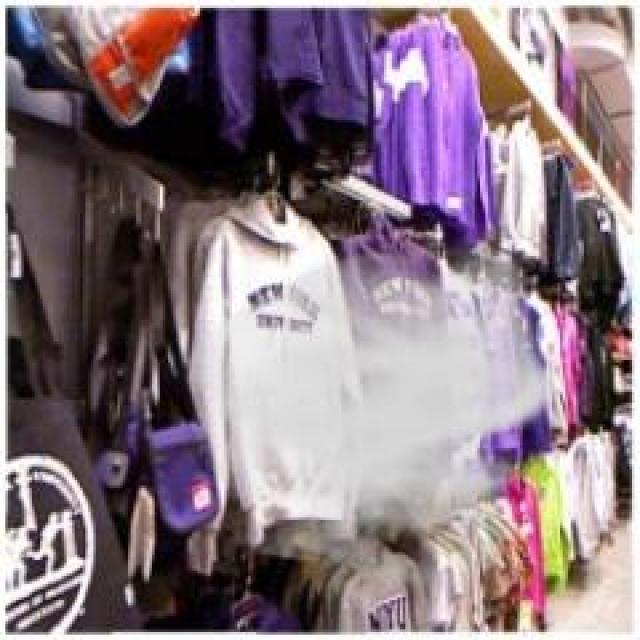Smoke: (227, 242, 567, 522)
